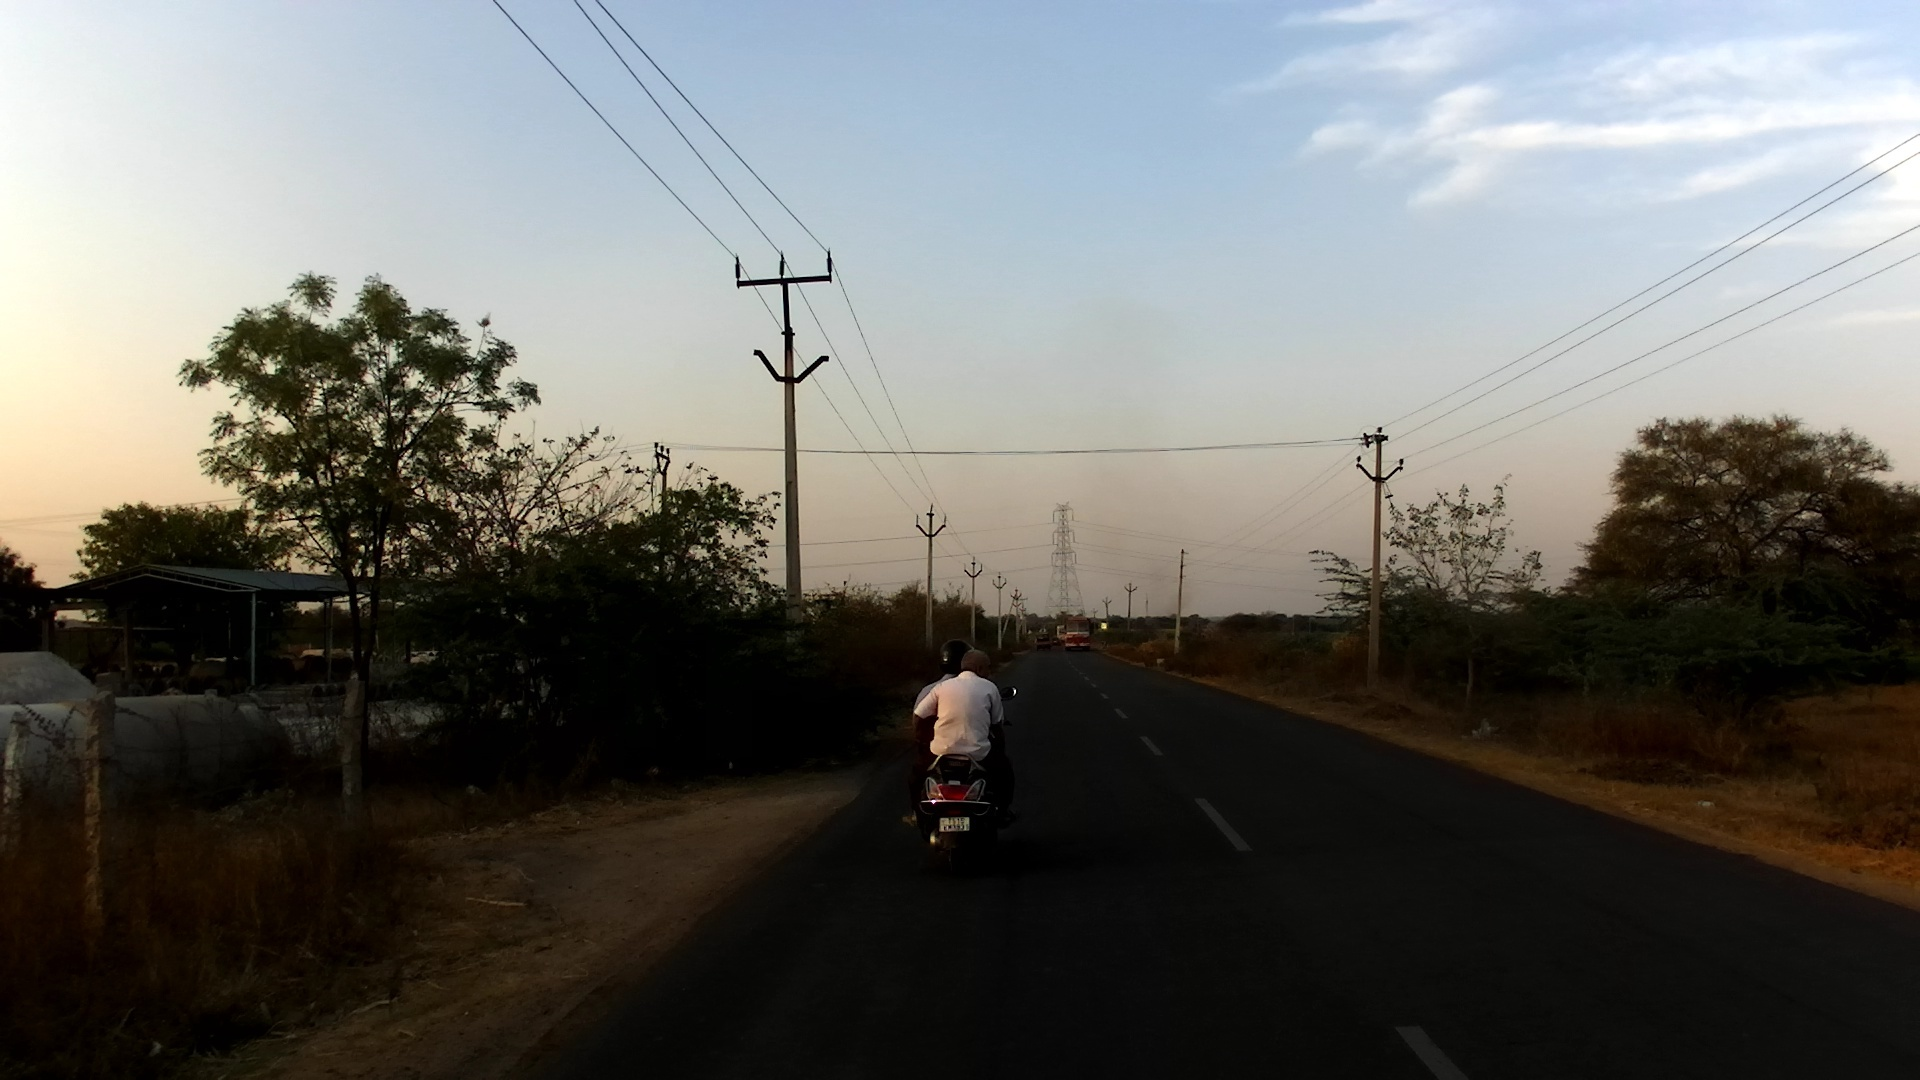car: (1032, 627, 1053, 652), (1051, 637, 1061, 647)
motorcycle: (914, 685, 1025, 873)
rider: (900, 648, 1014, 833), (909, 638, 1003, 792)
truck: (1061, 616, 1091, 653)
vehicle fallback: (1058, 625, 1067, 643)
